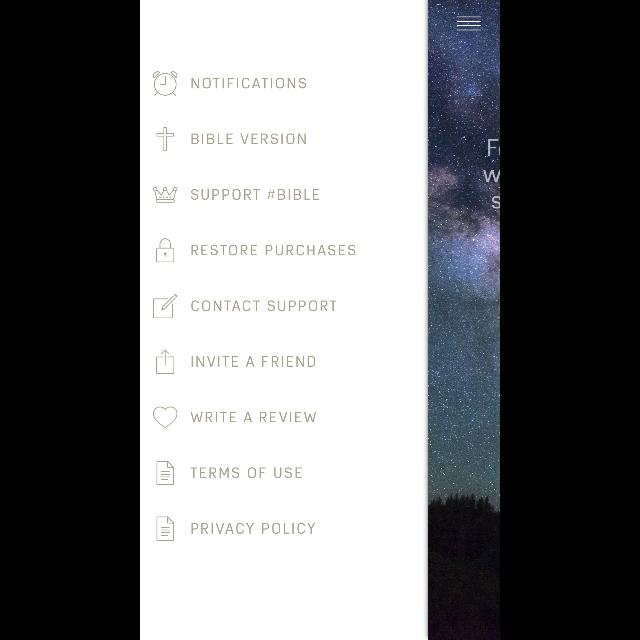icon: (153, 294, 177, 318), (154, 72, 178, 96), (154, 406, 178, 428), (156, 460, 174, 486), (156, 350, 174, 374), (156, 239, 174, 263), (158, 517, 175, 541), (457, 16, 481, 32)
image: (152, 187, 178, 203), (158, 128, 175, 152)
panel: (140, 1, 428, 640)
text: (191, 244, 355, 256), (192, 300, 336, 312), (191, 522, 315, 534), (192, 357, 316, 368), (191, 190, 319, 200), (190, 412, 316, 422), (192, 78, 306, 89), (192, 134, 306, 144), (190, 468, 302, 478)
